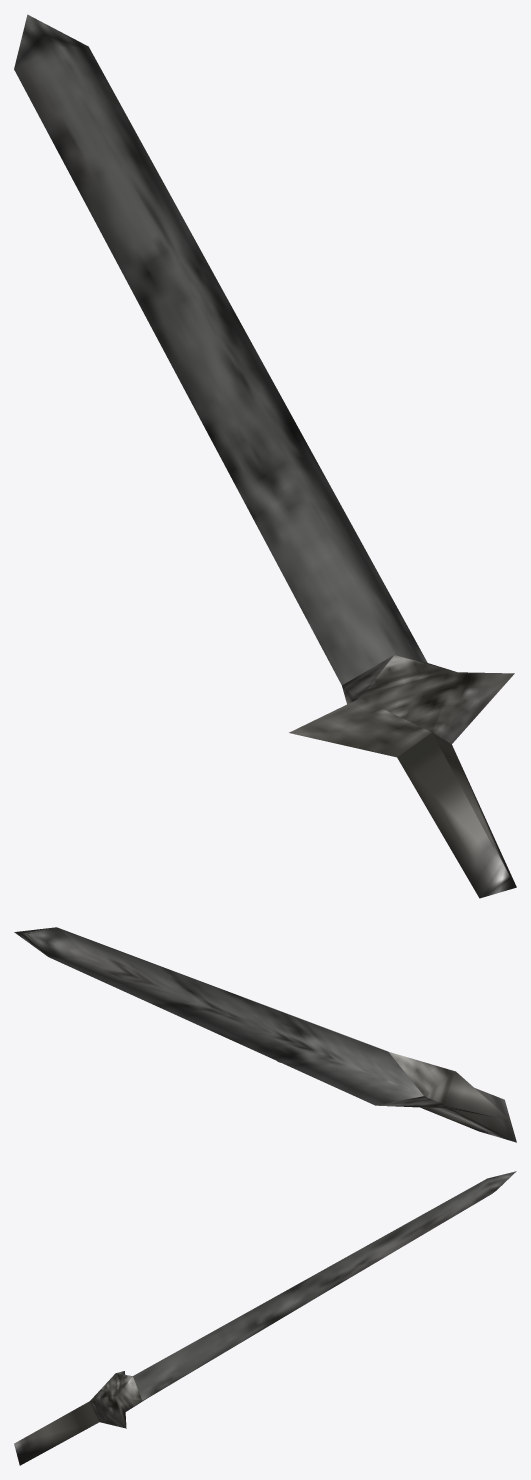
The model's file is weapon01.obj.
The picture shows the model from 3 angles, top to bottom: view 1: azimuth 30°, elevation 25°; view 2: azimuth 150°, elevation 25°; view 3: azimuth 270°, elevation 25°; orthographic projection. The views are drawn at different scales.
Visible parts, largest first — view 1: weapon01; view 2: weapon01; view 3: weapon01.
Part boxes in pixels (x1,y1,x2,y2): weapon01: [14, 14, 516, 898]; weapon01: [14, 927, 516, 1142]; weapon01: [14, 1171, 516, 1465].
Bounding box in the file's own units: 45.26 × 103 × 162.
